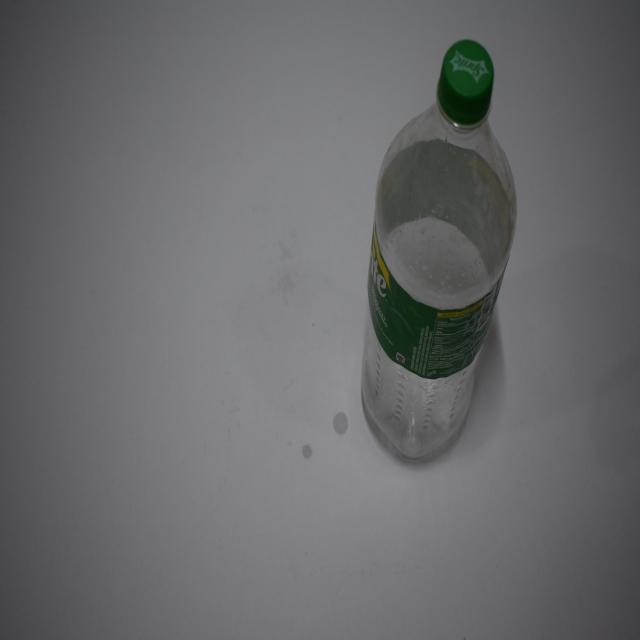bottle: (360, 36, 525, 487)
